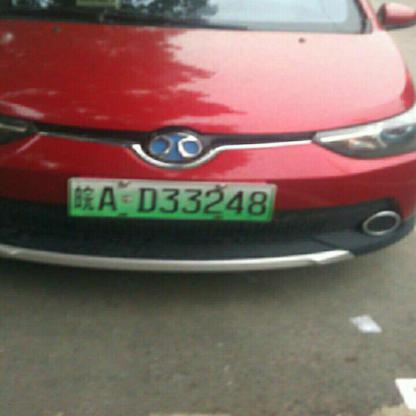lp: (70, 179, 271, 219)
